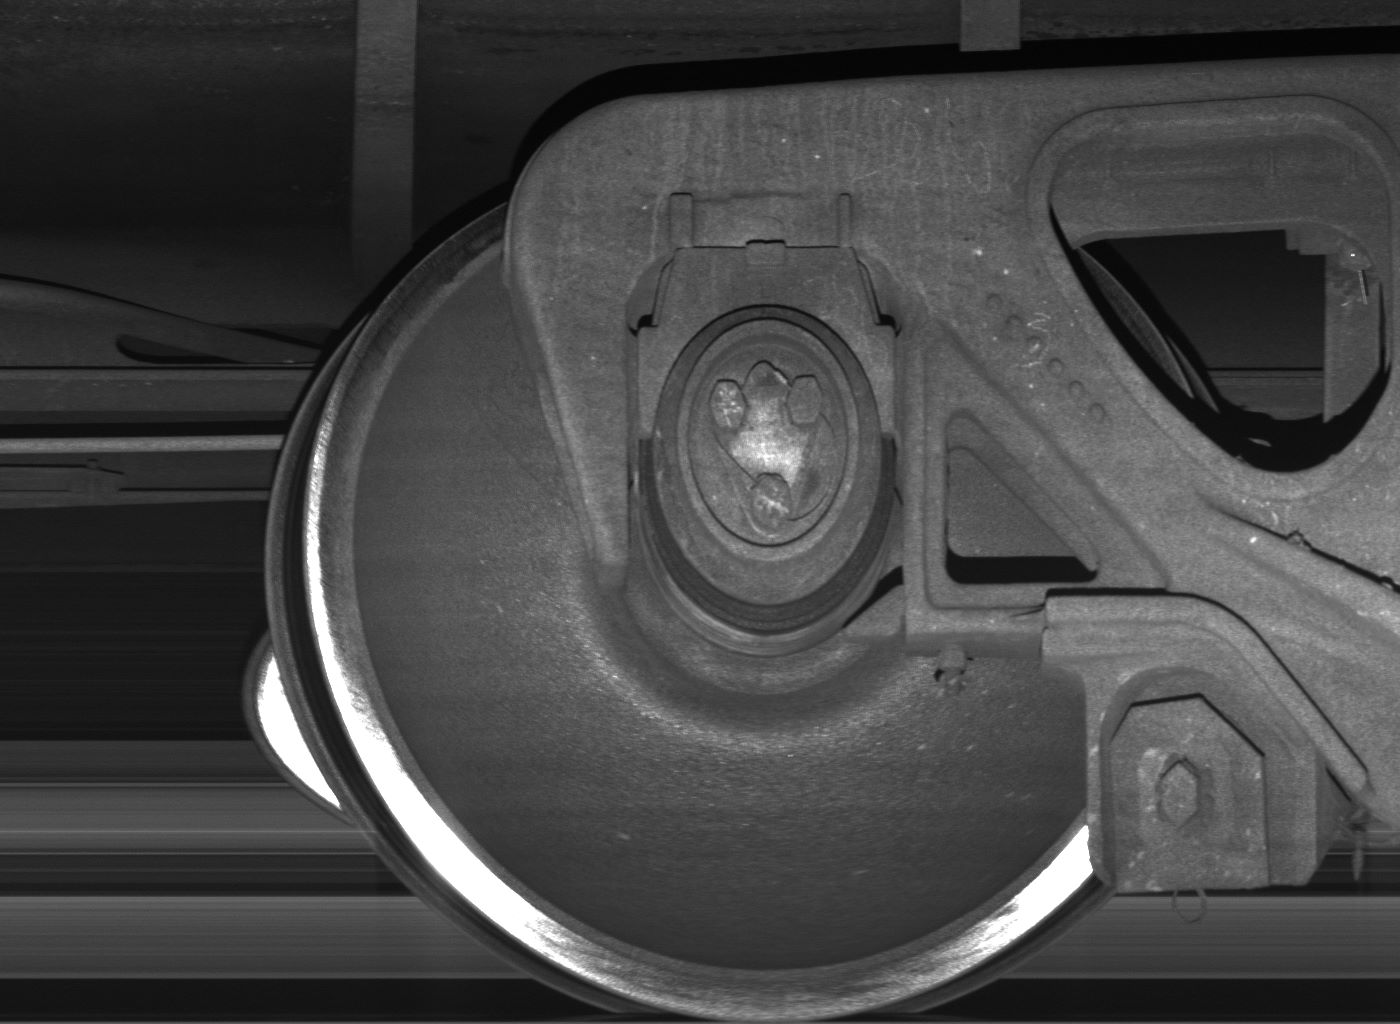normal: (1087, 662, 1320, 894)
